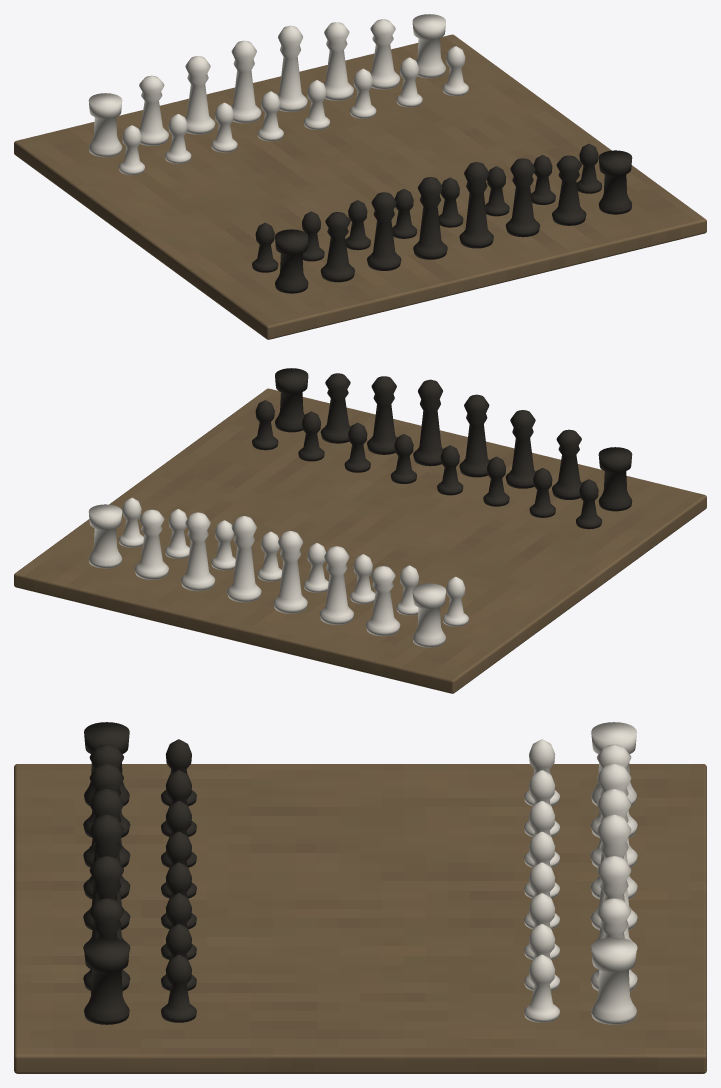
The model's file is result.glb.
3 renders of one model, top to bottom at view 1: azimuth 30°, elevation 25°; view 2: azimuth 150°, elevation 25°; view 3: azimuth 270°, elevation 25°, orthographic. The views are drawn at different scales.
Visible parts, largest first — view 1: Board, king -1 4, queen -1 3, king 1 4, rook -1 7, rook -1 0, rook 1 0, queen 1 3, bishop -1 5, bishop -1 2, rook 1 7, bishop 1 5 (+21 smaller); view 2: Board, king 1 4, queen 1 3, king -1 4, rook 1 7, rook 1 0, rook -1 0, queen -1 3, bishop 1 5, bishop 1 2, rook -1 7, bishop -1 5 (+21 smaller); view 3: Board, rook -1 7, rook 1 7, Pawn -1 7, Pawn 1 7, king -1 4, king 1 4, rook -1 0, rook 1 0, knight -1 6, knight 1 6, bishop -1 5 (+21 smaller).
Part boxes in pixels (x1,y1,x2,y2): Board: [14, 34, 706, 339]; king -1 4: [459, 162, 493, 248]; queen -1 3: [413, 177, 447, 259]; king 1 4: [277, 25, 307, 112]; rook -1 7: [598, 150, 632, 214]; rook -1 0: [275, 229, 308, 293]; rook 1 0: [88, 93, 122, 157]; queen 1 3: [231, 40, 261, 123]; bishop -1 5: [505, 158, 540, 237]; bishop -1 2: [367, 192, 401, 270]; rook 1 7: [412, 14, 445, 78]; bishop 1 5: [324, 22, 353, 100]; Board: [14, 388, 706, 693]; king 1 4: [227, 516, 261, 602]; queen 1 3: [273, 531, 307, 613]; king -1 4: [413, 379, 443, 466]; rook 1 7: [88, 504, 122, 568]; rook 1 0: [412, 583, 445, 647]; rook -1 0: [598, 447, 632, 511]; queen -1 3: [459, 394, 489, 477]; bishop 1 5: [180, 512, 215, 591]; bishop 1 2: [319, 546, 353, 624]; rook -1 7: [275, 368, 308, 432]; bishop -1 5: [367, 376, 396, 454]; Board: [14, 764, 706, 1073]; rook -1 7: [84, 937, 129, 1024]; rook 1 7: [591, 937, 636, 1024]; Pawn -1 7: [161, 954, 196, 1022]; Pawn 1 7: [524, 954, 559, 1022]; king -1 4: [83, 814, 130, 930]; king 1 4: [590, 814, 637, 930]; rook -1 0: [84, 722, 129, 805]; rook 1 0: [591, 722, 636, 805]; knight -1 6: [83, 898, 130, 990]; knight 1 6: [590, 898, 637, 990]; bishop -1 5: [83, 856, 130, 951].
Bounding box in the file's own units: 1 × 0.205 × 1.
Materials: 33 (33 with a texture image).
